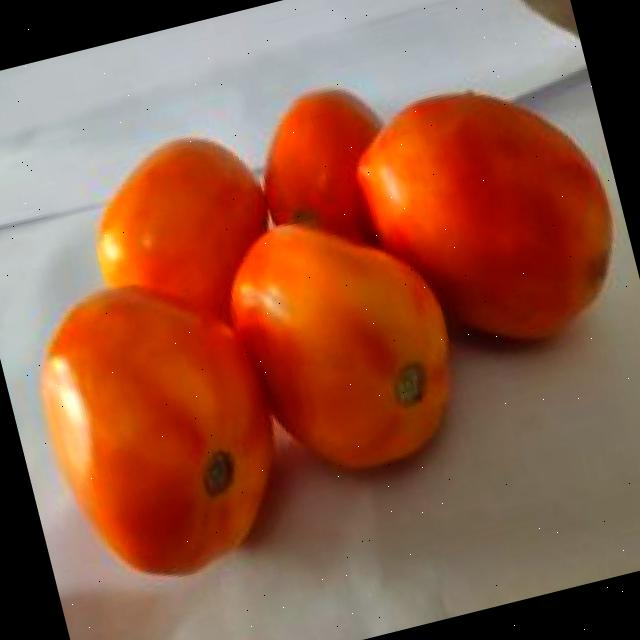tomato: (35, 281, 275, 577), (353, 93, 616, 340), (227, 221, 451, 469), (97, 135, 271, 317), (263, 89, 379, 237)
